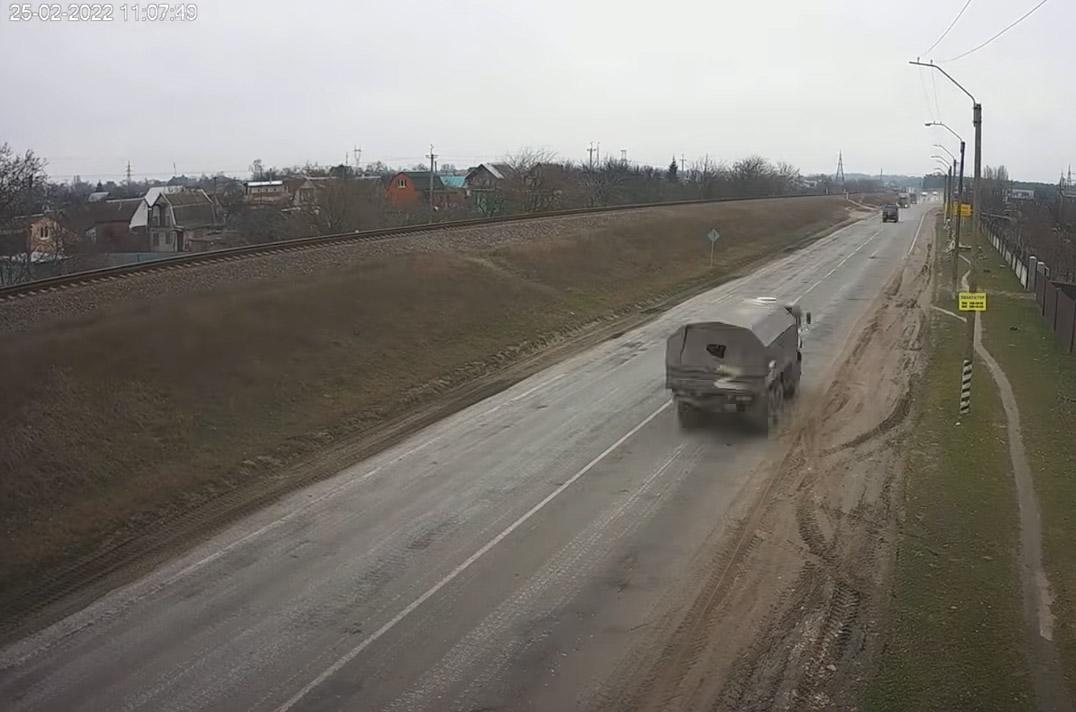truck: (662, 294, 814, 440), (882, 204, 900, 224)
